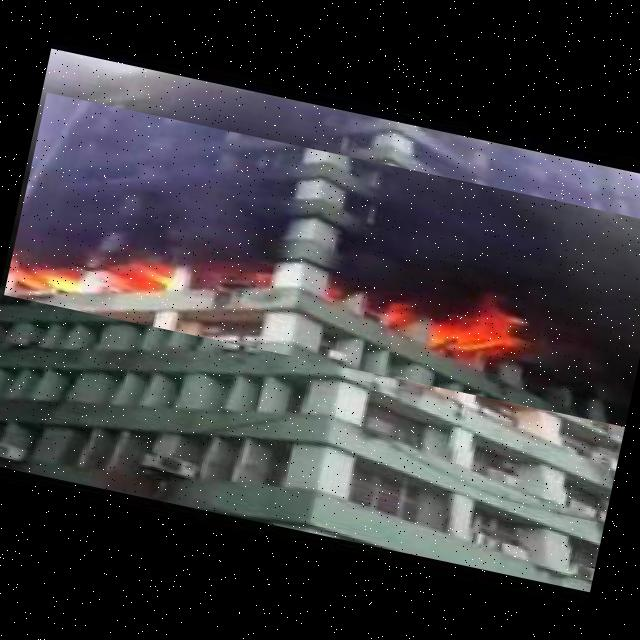fire: (3, 92, 640, 427)
